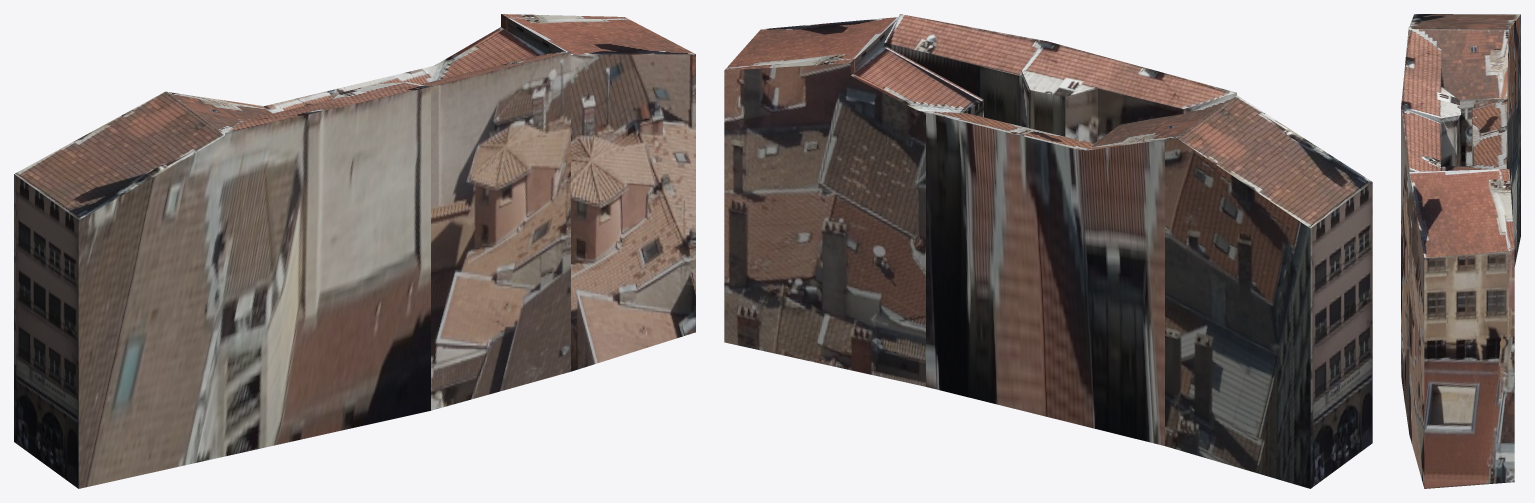
The picture shows the model from 3 angles, left to right: view 1: azimuth 30°, elevation 25°; view 2: azimuth 150°, elevation 25°; view 3: azimuth 270°, elevation 25°; orthographic projection. The views are drawn at different scales.
Visible parts, largest first — view 1: Z_UP; view 2: Z_UP; view 3: Z_UP.
Part boxes in pixels (x1,y1,x2,y2): Z_UP: (14, 14, 695, 488); Z_UP: (724, 14, 1372, 488); Z_UP: (1401, 14, 1520, 488).
Size of the model in its own units: 44.47 by 22.08 by 8.92.
Materials: 2 (1 with a texture image).
